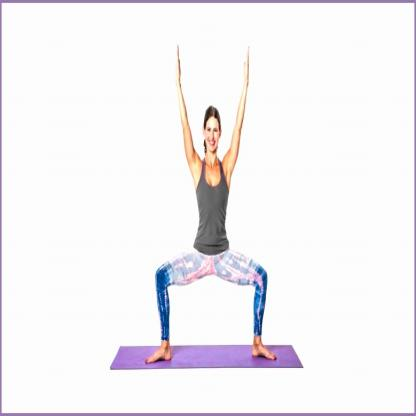godness: (143, 43, 280, 370)
